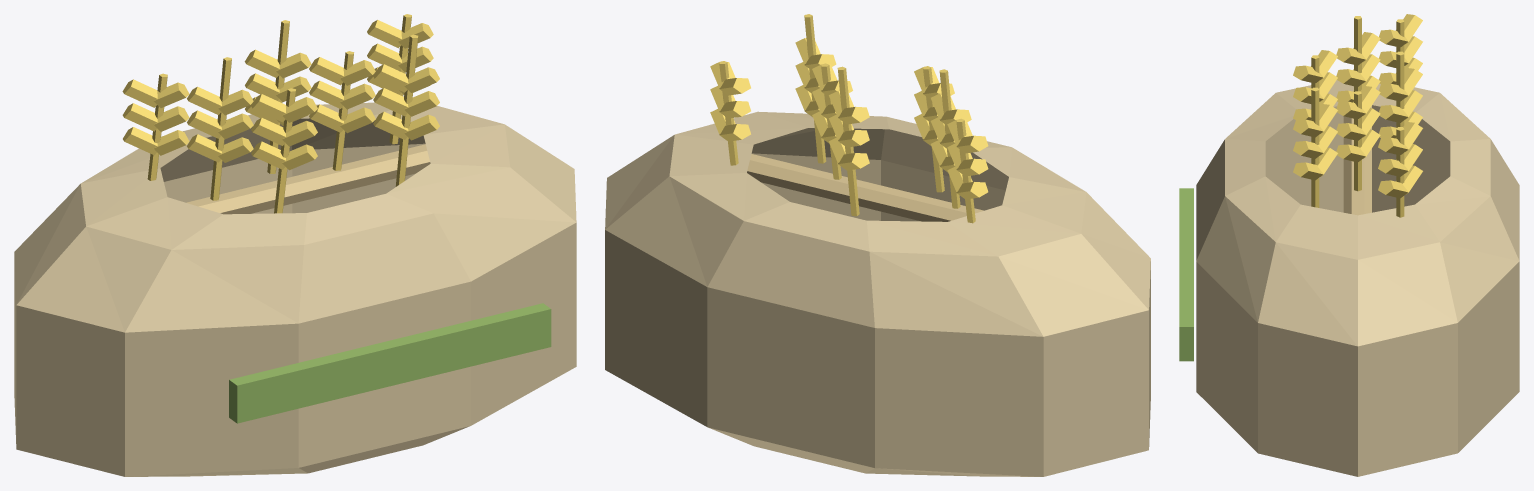
File: comida.glb
3 renders of one model, left to right at view 1: azimuth 30°, elevation 25°; view 2: azimuth 150°, elevation 25°; view 3: azimuth 270°, elevation 25°, orthographic. The views are drawn at different scales.
Parts seen in each view (by area): view 1: comida; view 2: comida; view 3: comida.
Boxes of the visible parts, x1,y1,x2,y2 form: comida: [14, 14, 576, 476]; comida: [605, 14, 1150, 476]; comida: [1179, 14, 1519, 476].
Bounding box in the file's own units: 0.48 × 0.3005 × 0.2801.
